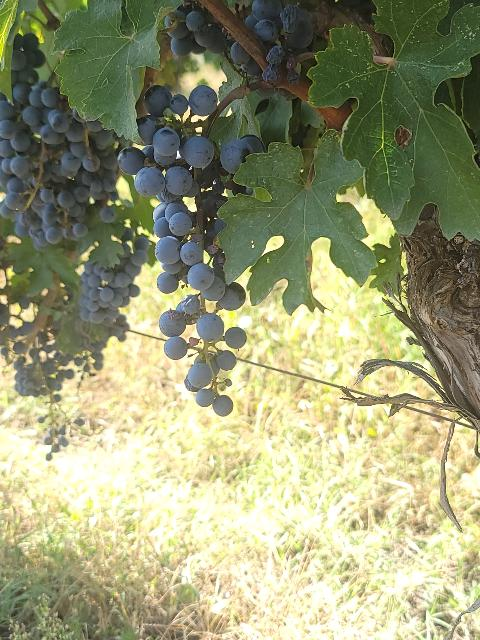grapes: (119, 85, 264, 416), (79, 235, 150, 325)
